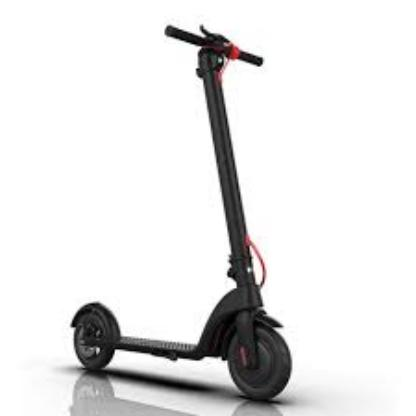bike: (68, 24, 293, 402)
car: (69, 30, 293, 402), (70, 230, 293, 402)
